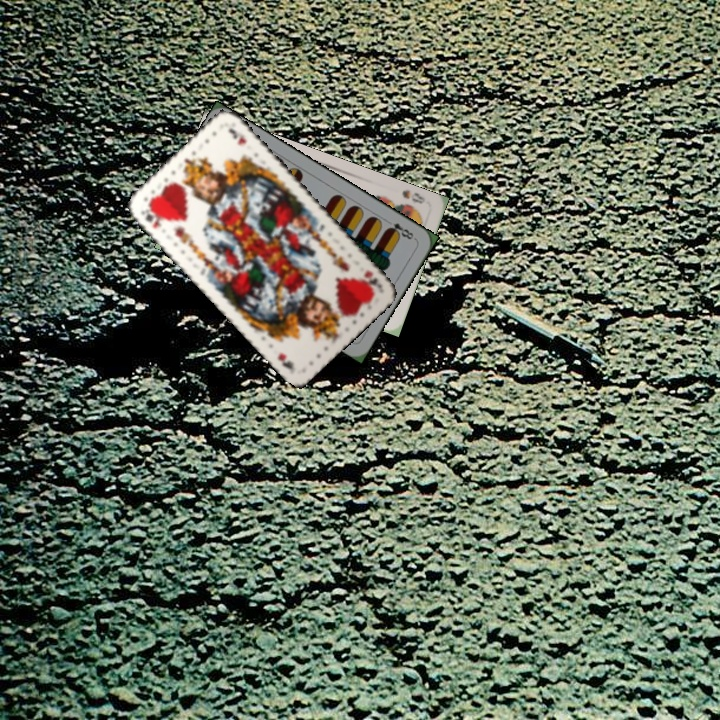E8: (382, 216, 418, 242)
HK: (136, 201, 165, 232), (360, 266, 385, 291)
S8: (398, 186, 428, 206)
